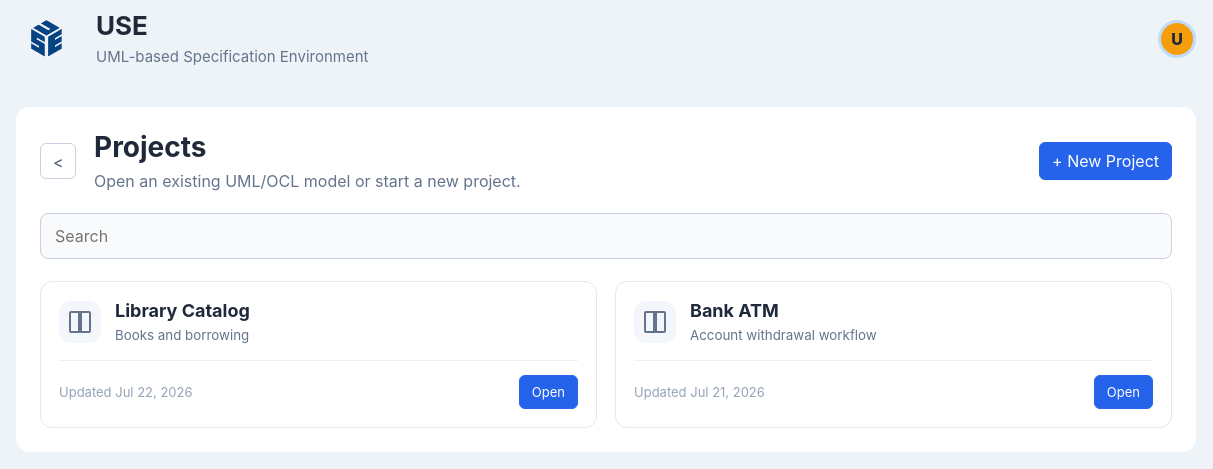
ProjectsPage › renders project cards and filters them by name or description
Expected: the heading "Projects" is shown, [94,130,206,164]
Expected: the button "+ New Project" is shown, [1039,142,1172,180]
Type "books" into the search field named "Search projects" at (606,236), box [40,213,1172,259]
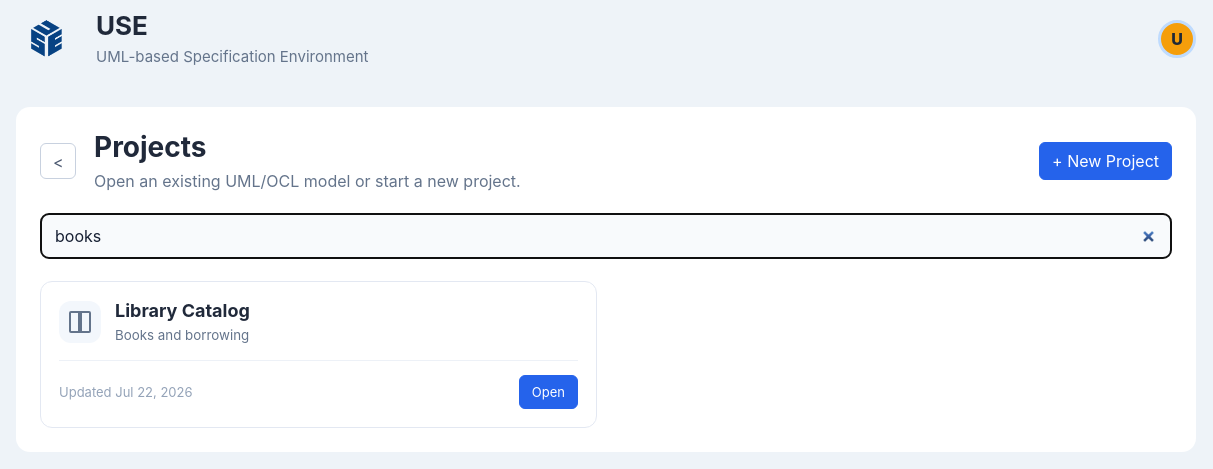
Expected: the text "Library Catalog" is shown, [115,300,250,321]
Now the button "Bank ATM" is gone
